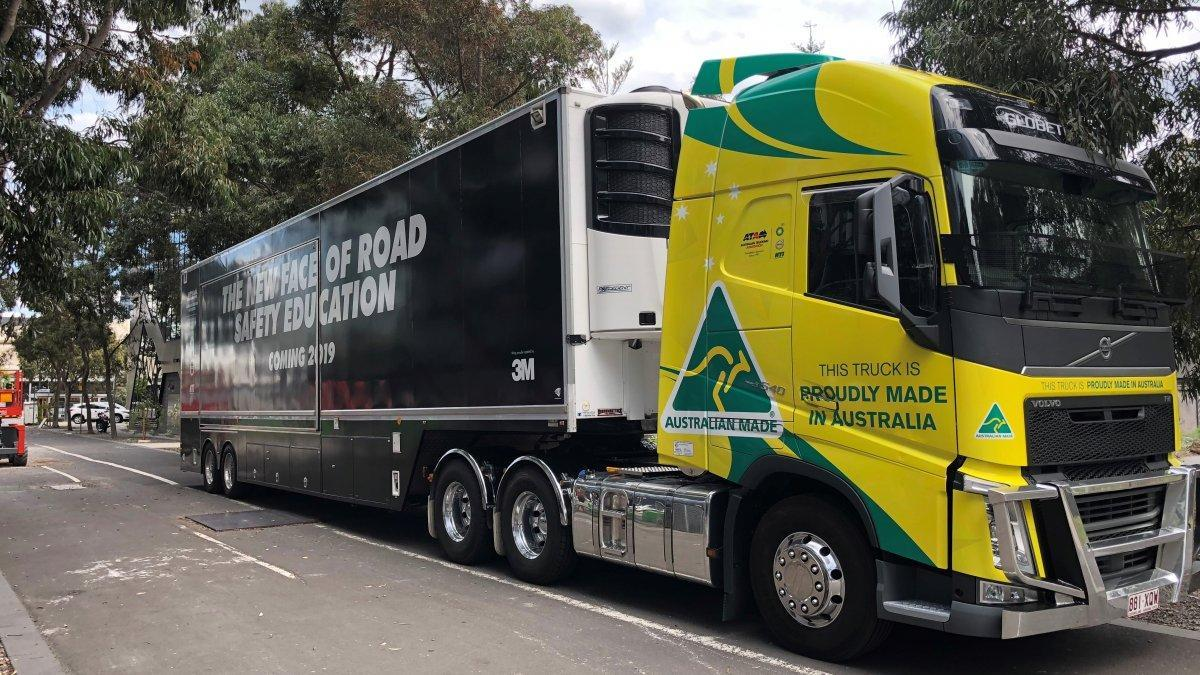truck: (232, 50, 1200, 662)
